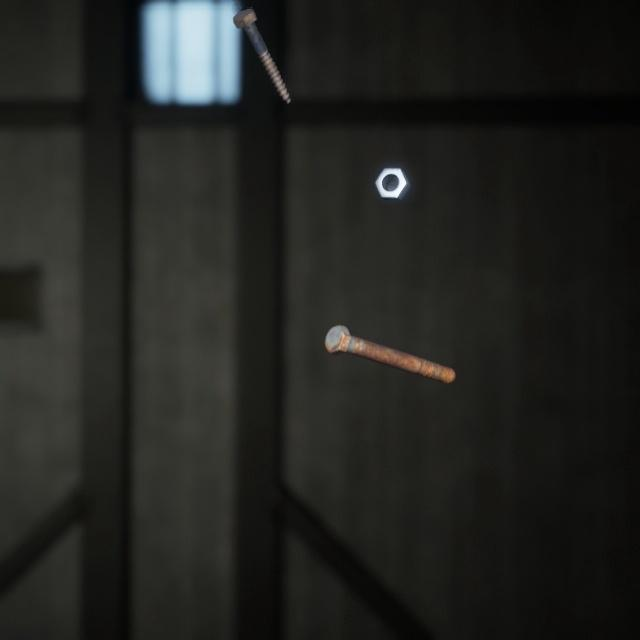bolt: (320, 302, 460, 370), (228, 0, 295, 97)
nut: (370, 150, 415, 191)
